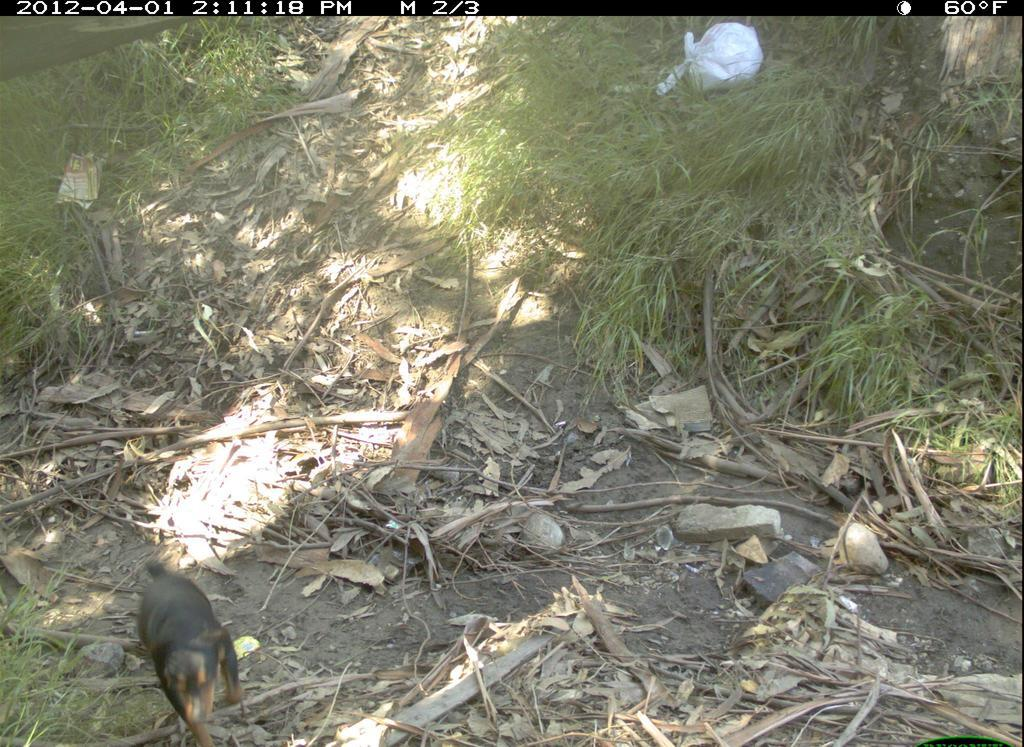dog: (123, 556, 248, 744)
